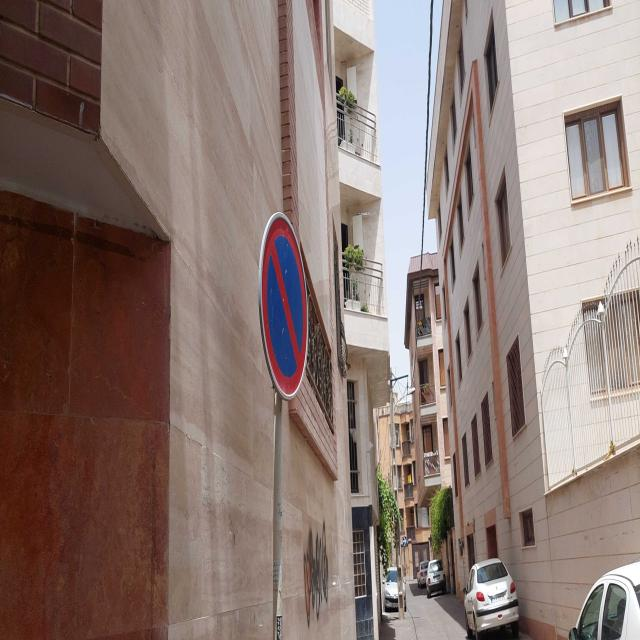forb_stopping: (257, 208, 309, 402)
